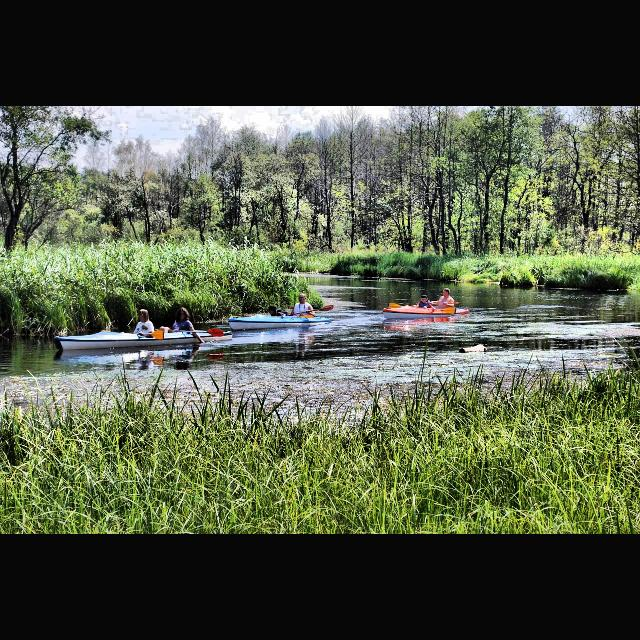kayak: (51, 323, 232, 352), (228, 313, 332, 333), (382, 302, 471, 321)
